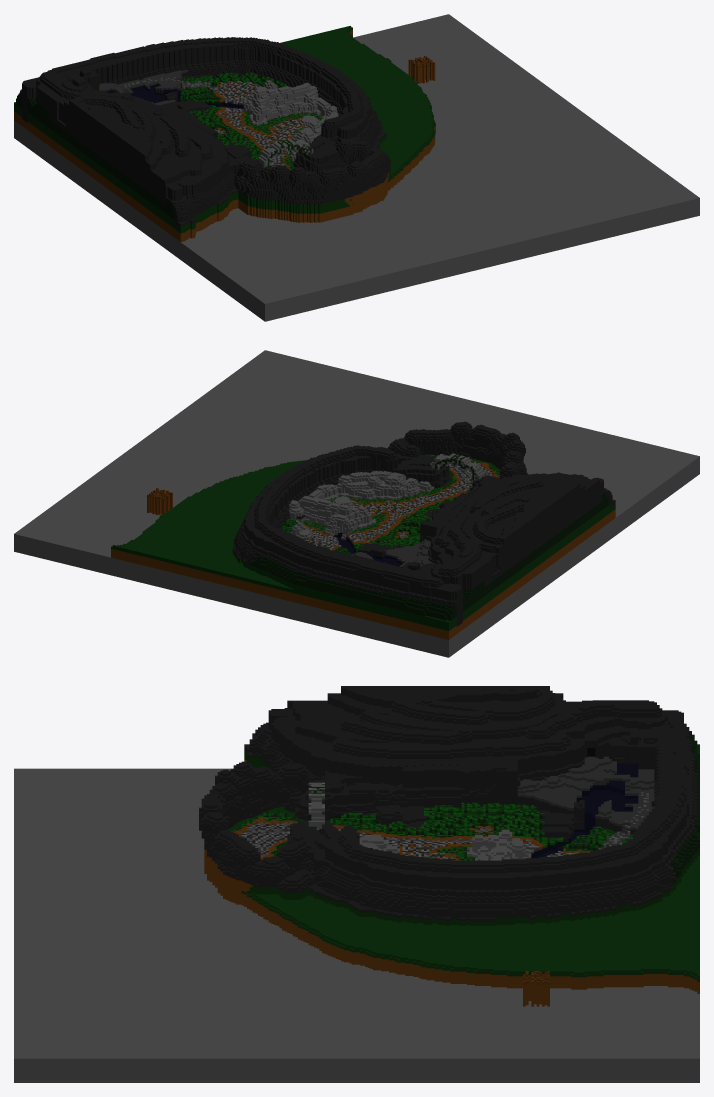
Rendered from ShrineArea_v2-1.obj.
The picture shows the model from 3 angles, top to bottom: view 1: azimuth 30°, elevation 25°; view 2: azimuth 150°, elevation 25°; view 3: azimuth 270°, elevation 25°; orthographic projection. The views are drawn at different scales.
Size of the model in its own units: 25.6 by 4.5 by 25.6.
Materials: 1 (1 with a texture image).
